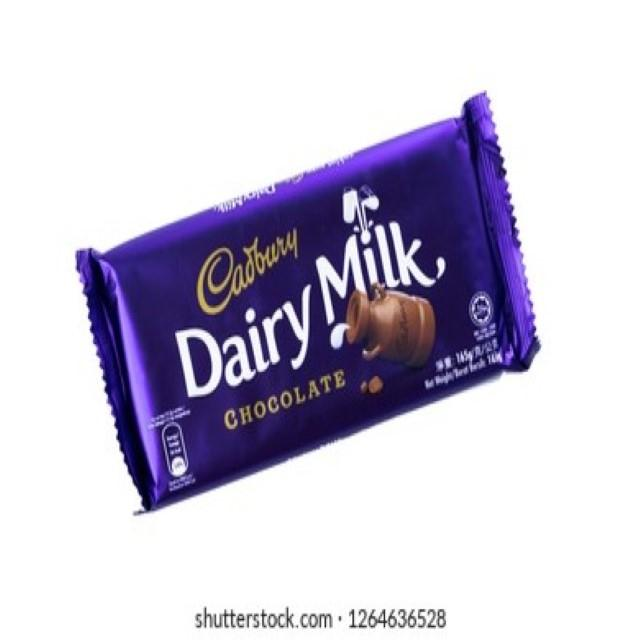cadbury_chocolate: (122, 111, 495, 536)
